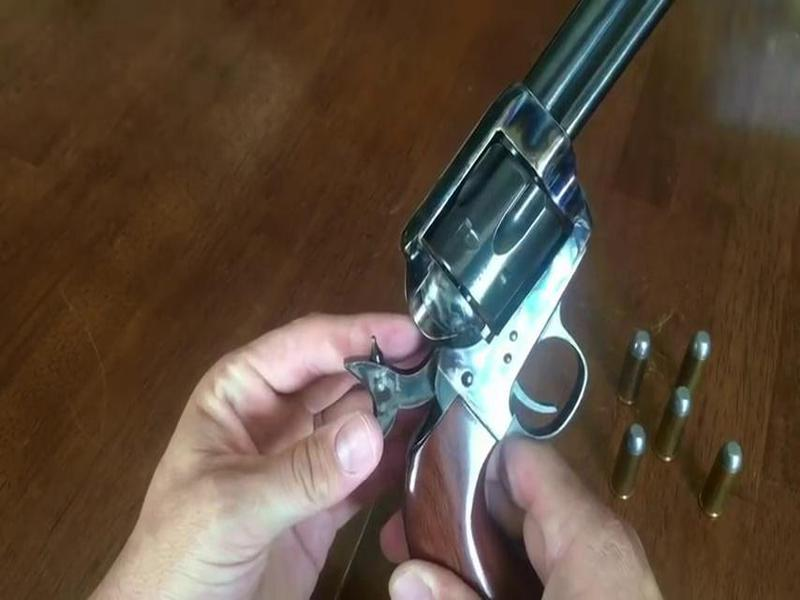Revolver: (382, 6, 663, 600)
